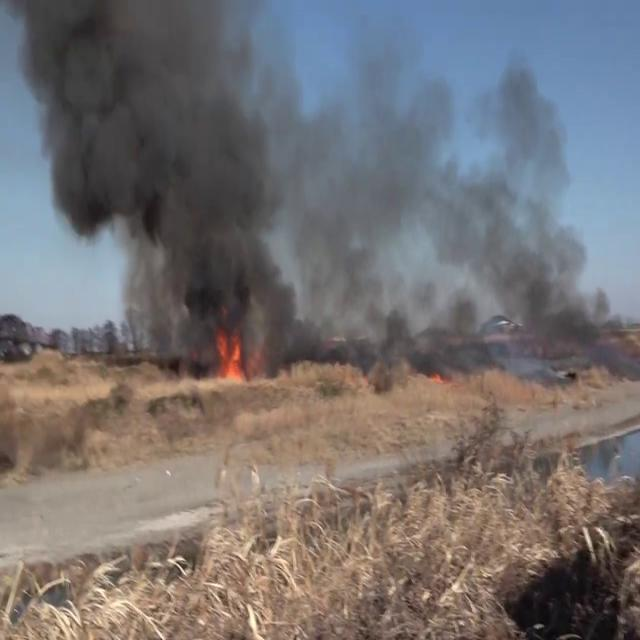Fire: (210, 312, 249, 388)
Smoke: (288, 33, 630, 365), (7, 0, 293, 343)
